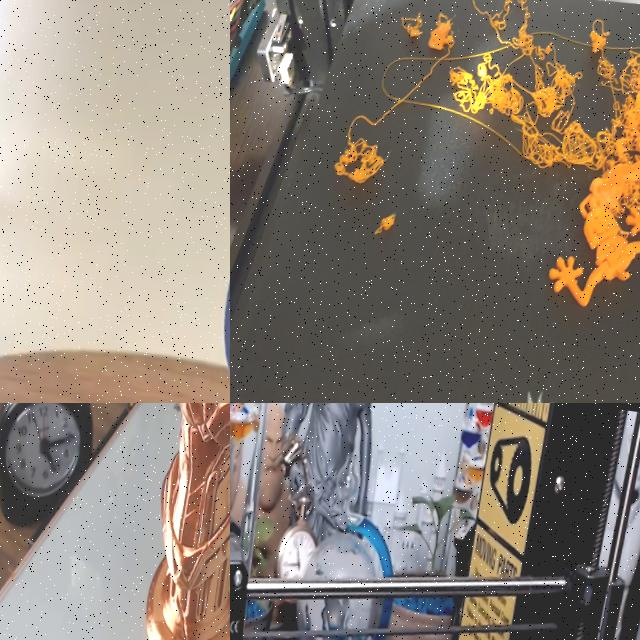spaghetti: (437, 0, 640, 234), (331, 142, 398, 192), (392, 2, 432, 44), (431, 7, 461, 57), (372, 211, 401, 241)
